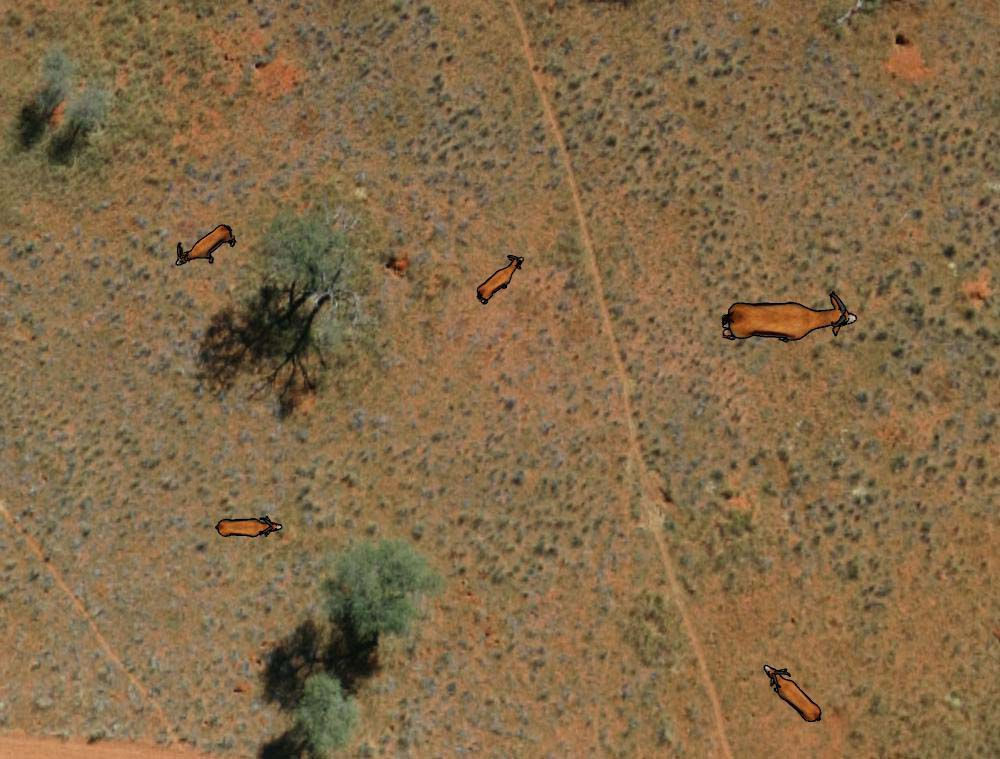springbok: (717, 286, 861, 347), (759, 661, 824, 731), (172, 221, 240, 269), (472, 251, 529, 307), (212, 509, 286, 545)
